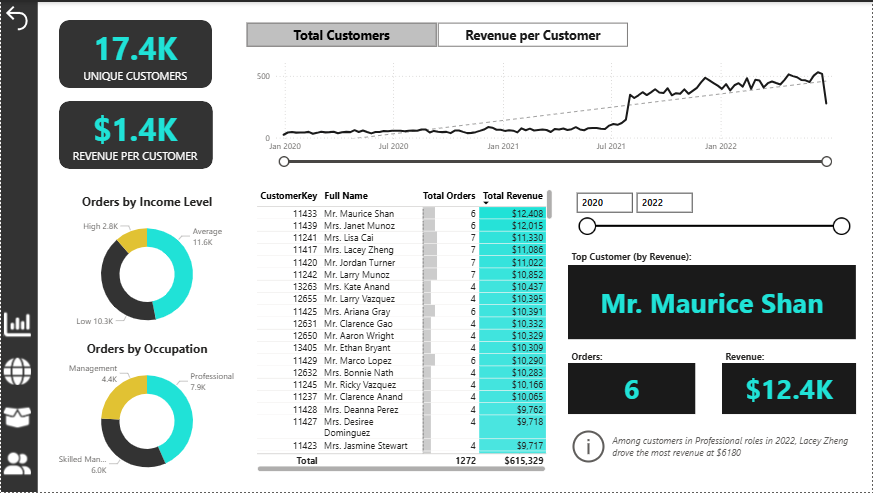

Layout of this report page (visuals, bound fields, positions):
{"tool":"powerbi","page":{"name":"Customer Details","canvas":[1280,720],"ordinal":3},"visuals":[{"type":"shape","box":[0,0,54.4,720],"z":0},{"type":"shape","box":[85.9,26.5,225,100],"z":1000},{"type":"shape","box":[85.4,145.9,226.3,99.9],"z":2000},{"type":"card","title":"Card","fields":{"Values":["Measure Table (DAX).Total Customers"]},"box":[75,0,244.4,152.1],"z":3000},{"type":"card","title":"Card","fields":{"Values":["Measure Table (DAX).Average Revenue per Customer"]},"box":[74.9,119,243.9,151.3],"z":4000},{"type":"lineChart","title":"Weekly Customers ","fields":{"Category":["Calendar Lookup.Year Hierarchy.Start of Year","Calendar Lookup.Year Hierarchy.Start of Month","Calendar Lookup.Year Hierarchy.Start of Week","Calendar Lookup.Year Hierarchy.Date"],"Y":["Measure Table (DAX).Total Customers"]},"box":[370.3,76.4,871.3,169],"z":5000},{"type":"donutChart","title":"Orders by Income Level","fields":{"Y":["Measure Table (DAX).Total Orders"],"Category":["Customer Lookup.Income Level"]},"box":[74.9,280.7,279.2,216],"z":6000},{"type":"donutChart","title":"Orders by Occupation","fields":{"Y":["Measure Table (DAX).Total Orders"],"Category":["Customer Lookup.Occupation"]},"box":[74.9,496.7,279.2,216],"z":7000},{"type":"tableEx","fields":{"Values":["Customer Lookup.CustomerKey","Customer Lookup.Full Name","Measure Table (DAX).Total Orders","Measure Table (DAX).Total Revenue"]},"box":[370.3,270.4,445.2,424.7],"z":8000},{"type":"card","fields":{"Values":["Measure Table (DAX).Full Name(Customer Detail)"]},"box":[833.1,386.4,423.2,108.7],"z":9000},{"type":"card","fields":{"Values":["Measure Table (DAX).Total Orders (Customer Details)"]},"box":[833.1,530.4,186.6,74.9],"z":10000},{"type":"card","fields":{"Values":["Measure Table (DAX).Total Revenue (Customer Details)"]},"box":[1059.4,530.4,196.9,74.9],"z":11000},{"type":"textbox","box":[833.1,360,198.4,27.9],"z":11001},{"type":"textbox","box":[833.1,506.9,77.9,27.9],"z":11002},{"type":"textbox","box":[1059.4,506.9,74.9,27.9],"z":11003},{"type":"slicer","fields":{"Values":["Calendar Lookup.Year"]},"box":[833.1,270.4,423.2,89.6],"z":11004},{"type":"actionButton","box":[833.1,623,423.2,60.2],"z":11005},{"type":"actionButton","box":[0,0,54.4,47],"z":11006},{"type":"actionButton","box":[0,450.1,54.4,48.5],"z":11007},{"type":"actionButton","box":[0,518.2,54.4,48.5],"z":11008},{"type":"actionButton","box":[0,586.3,54.4,48.5],"z":11009},{"type":"actionButton","box":[0,654.4,54.4,48.5],"z":11010},{"type":"slicer","fields":{"Values":["Customer Metric Selection:.Customer Metric Selection:"]},"box":[335,23.5,609.8,47],"z":11011}]}

Visuals, with their boxes on the page's 1280x720 design canvas (x1, y1, x2, y2). These are canvas units, not pixel positions in the 873x493 screenshot, which may show the page scaled, cropped or inside an application window:
shape: {"left": 0, "top": 0, "right": 54, "bottom": 720}
shape: {"left": 86, "top": 26, "right": 311, "bottom": 126}
shape: {"left": 85, "top": 146, "right": 312, "bottom": 246}
"Card" card: {"left": 75, "top": 0, "right": 319, "bottom": 152}
"Card" card: {"left": 75, "top": 119, "right": 319, "bottom": 270}
"Weekly Customers " lineChart: {"left": 370, "top": 76, "right": 1242, "bottom": 245}
"Orders by Income Level" donutChart: {"left": 75, "top": 281, "right": 354, "bottom": 497}
"Orders by Occupation" donutChart: {"left": 75, "top": 497, "right": 354, "bottom": 713}
tableEx - Customer Lookup.CustomerKey x Customer Lookup.Full Name: {"left": 370, "top": 270, "right": 816, "bottom": 695}
card - Measure Table (DAX).Full Name(Customer Detail): {"left": 833, "top": 386, "right": 1256, "bottom": 495}
card - Measure Table (DAX).Total Orders (Customer Details): {"left": 833, "top": 530, "right": 1020, "bottom": 605}
card - Measure Table (DAX).Total Revenue (Customer Details): {"left": 1059, "top": 530, "right": 1256, "bottom": 605}
textbox: {"left": 833, "top": 360, "right": 1032, "bottom": 388}
textbox: {"left": 833, "top": 507, "right": 911, "bottom": 535}
textbox: {"left": 1059, "top": 507, "right": 1134, "bottom": 535}
slicer - Calendar Lookup.Year: {"left": 833, "top": 270, "right": 1256, "bottom": 360}
actionButton: {"left": 833, "top": 623, "right": 1256, "bottom": 683}
actionButton: {"left": 0, "top": 0, "right": 54, "bottom": 47}
actionButton: {"left": 0, "top": 450, "right": 54, "bottom": 499}
actionButton: {"left": 0, "top": 518, "right": 54, "bottom": 567}
actionButton: {"left": 0, "top": 586, "right": 54, "bottom": 635}
actionButton: {"left": 0, "top": 654, "right": 54, "bottom": 703}
slicer - Customer Metric Selection:.Customer Metric Selection:: {"left": 335, "top": 24, "right": 945, "bottom": 70}
